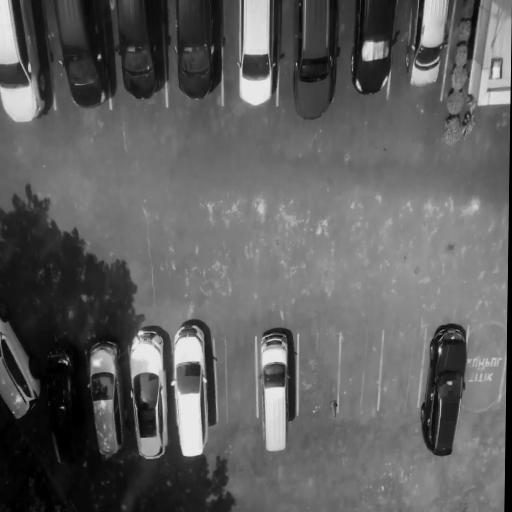Car: (420, 325, 469, 458), (172, 322, 213, 463), (44, 341, 85, 472), (128, 328, 167, 462), (86, 339, 122, 466), (258, 330, 294, 454)
